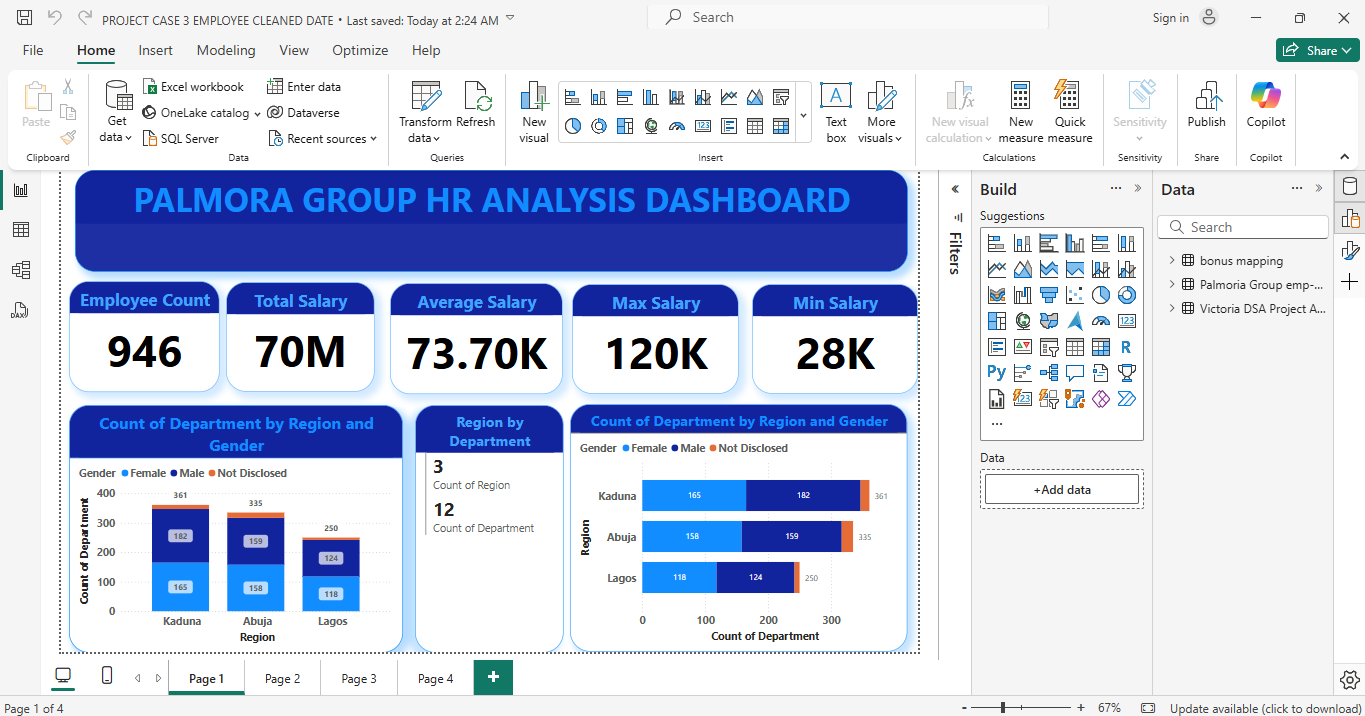

What the dashboard file says about the page in this screenshot:
{"tool":"powerbi","page":{"name":"Page 1","canvas":[1280,720],"ordinal":0},"visuals":[{"type":"card","title":"Employee Count","fields":{"Values":["CountNonNull(Victoria DSA Project Analysis Case #.Employee)"]},"box":[12.5,166.3,225.3,166.3],"z":0},{"type":"lineStackedColumnComboChart","fields":{"Category":["Victoria DSA Project Analysis Case #.Region"],"Y":["CountNonNull(Victoria DSA Project Analysis Case #.Department)"],"Series":["Victoria DSA Project Analysis Case #.Gender"]},"box":[12.5,350.4,498.8,370.1],"z":1000},{"type":"multiRowCard","title":"Region by Department","fields":{"Values":["Count(Victoria DSA Project Analysis Case #.Region)","Count(Victoria DSA Project Analysis Case #.Department)"]},"box":[529.2,350.4,221.7,370.1],"z":2000},{"type":"barChart","fields":{"Category":["Victoria DSA Project Analysis Case #.Region"],"Y":["CountNonNull(Victoria DSA Project Analysis Case #.Department)"],"Series":["Victoria DSA Project Analysis Case #.Gender"]},"box":[761,350.3,504.3,370.4],"z":3000},{"type":"card","title":"Total Salary","fields":{"Values":["Sum(Victoria DSA Project Analysis Case #.Salary)"]},"box":[246.7,168,221.7,164.5],"z":4000},{"type":"card","title":"Average Salary","fields":{"Values":["Avg(Victoria DSA Project Analysis Case #.Salary)"]},"box":[491.5,168.8,258.4,165.8],"z":5000},{"type":"card","title":"Max Salary","fields":{"Values":["Max(Victoria DSA Project Analysis Case #.Salary)"]},"box":[763.3,170.3,249.5,164.3],"z":6000},{"type":"card","title":"Min Salary","fields":{"Values":["Min(Victoria DSA Project Analysis Case #.Salary)"]},"box":[1032.2,170.3,248,164.3],"z":7000},{"type":"textbox","title":"PALMORA  GROUP HR ANALYSIS DASHBOARD","box":[21.5,0,1244.2,152],"z":8000}]}

Visuals, with their boxes on the page's 1280x720 design canvas (x1, y1, x2, y2). These are canvas units, not pixel positions in the 1365x716 screenshot, which may show the page scaled, cropped or inside an application window:
"Employee Count" card: (12,166,238,333)
lineStackedColumnComboChart - Victoria DSA Project Analysis Case #.Region x CountNonNull(Victoria DSA Project Analysis Case #.Department): (12,350,511,720)
"Region by Department" multiRowCard: (529,350,751,720)
barChart - Victoria DSA Project Analysis Case #.Region x CountNonNull(Victoria DSA Project Analysis Case #.Department): (761,350,1265,721)
"Total Salary" card: (247,168,468,332)
"Average Salary" card: (492,169,750,335)
"Max Salary" card: (763,170,1013,335)
"Min Salary" card: (1032,170,1280,335)
"PALMORA  GROUP HR ANALYSIS DASHBOARD" textbox: (22,0,1266,152)
